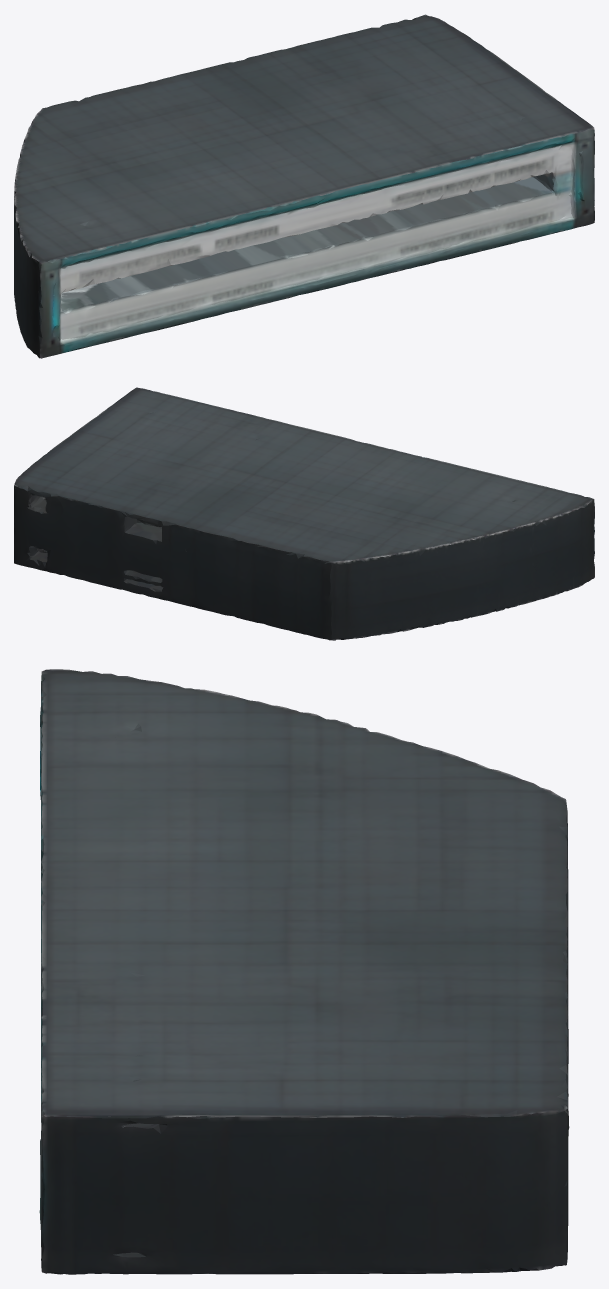
Rendered from rodin_CK1_Wall_raw.glb.
3 views of the same model, one above another, from view 1: azimuth 30°, elevation 25°; view 2: azimuth 150°, elevation 25°; view 3: azimuth 270°, elevation 25° (orthographic). The views are drawn at different scales.
Parts seen in each view (by area): view 1: model; view 2: model; view 3: model.
Boxes of the visible parts, box(x1,y1,x2,y2) form: model: box(14, 14, 594, 358); model: box(14, 387, 594, 640); model: box(39, 669, 569, 1274).
Size of the model in its own units: 1.89 by 0.3163 by 0.9447.
1 material, 1 textured.
